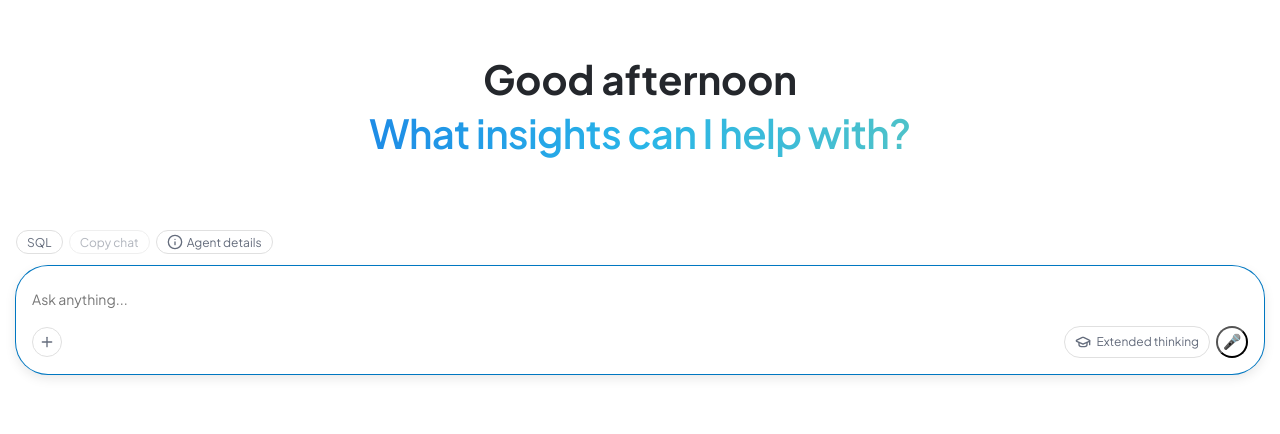
Test case: ChatContainer skill preamble › folds a selected skill into the outgoing query as a one-shot preamble, not repeated on the next turn
Later steps or results of the test are not shown.
Click the button titled "Skills": x=47, y=342 [32,327,62,357]
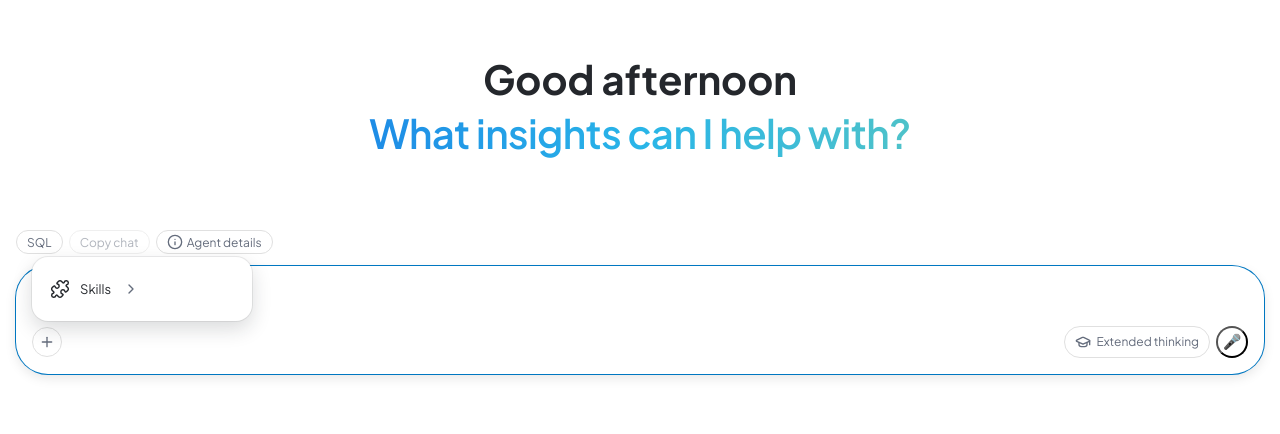
Click the button "Skills": x=142, y=289 [40,265,244,313]
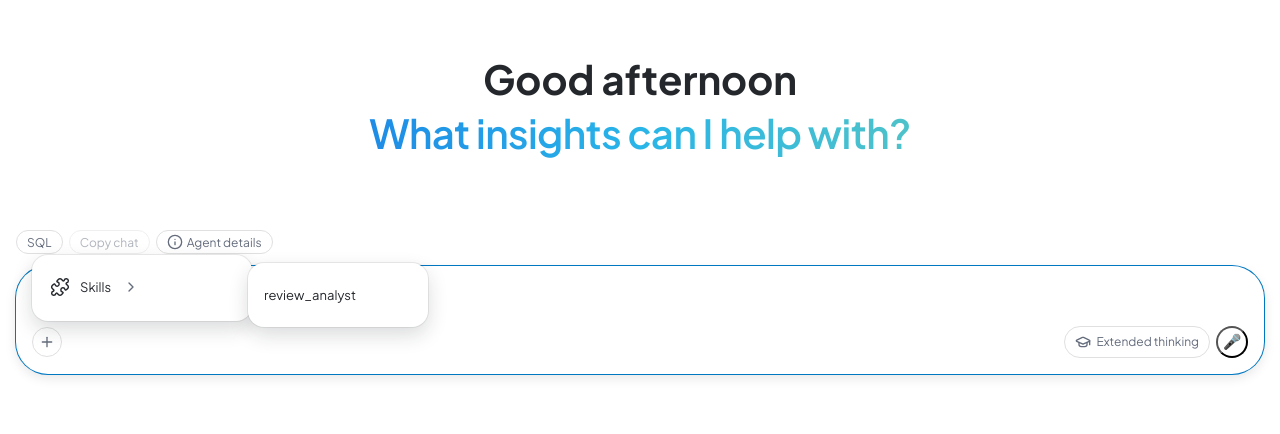
Now the button "review_analyst" is shown
Click the button "review_analyst": x=338, y=295 [256,271,420,319]
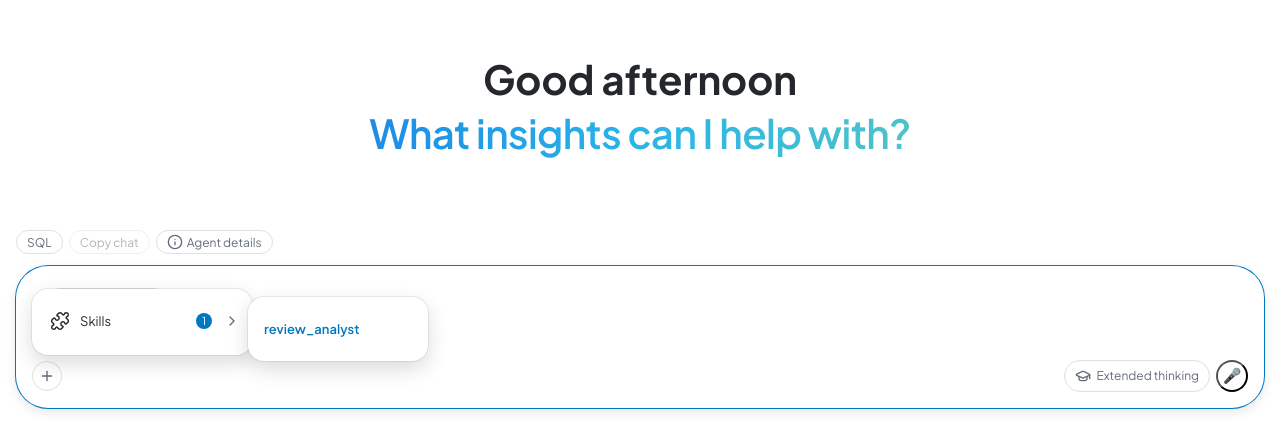
In the text box with placeholder "Ask anything...": x=640, y=334 [32,316,1248,352], type "How are reviews trending?"
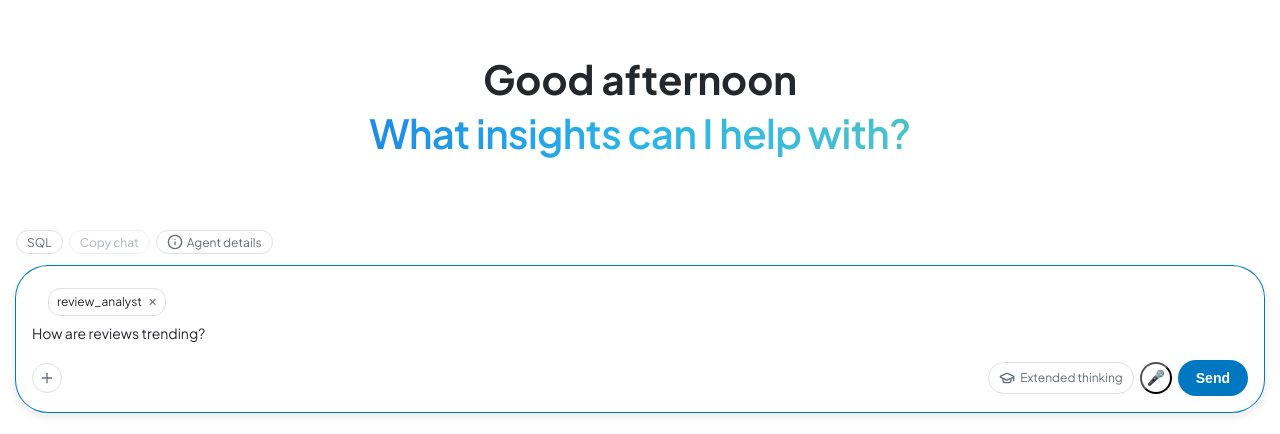
Click the button "Send": x=1213, y=378 [1178,360,1248,396]
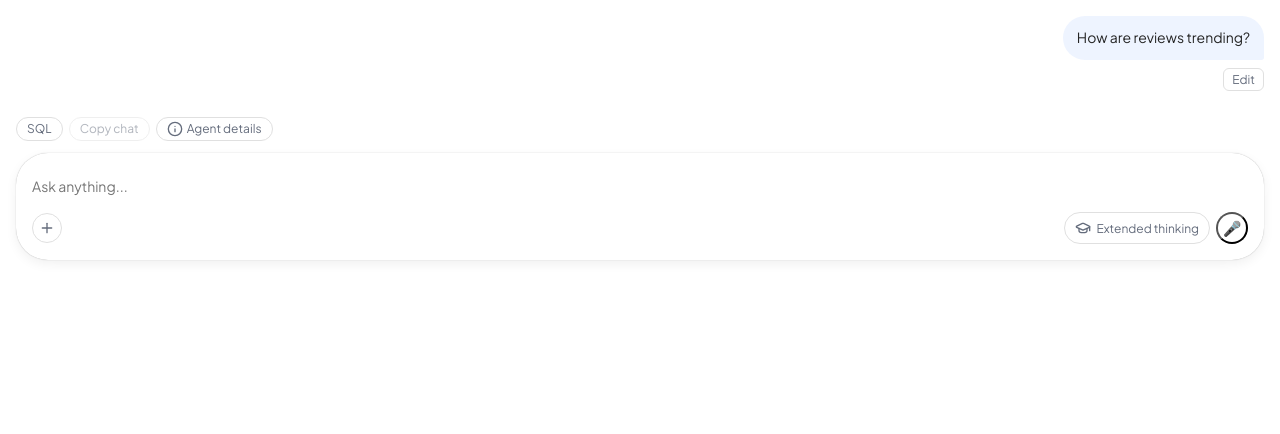
Now the text "How are reviews trending?" is shown, box [1063,16,1264,60]
